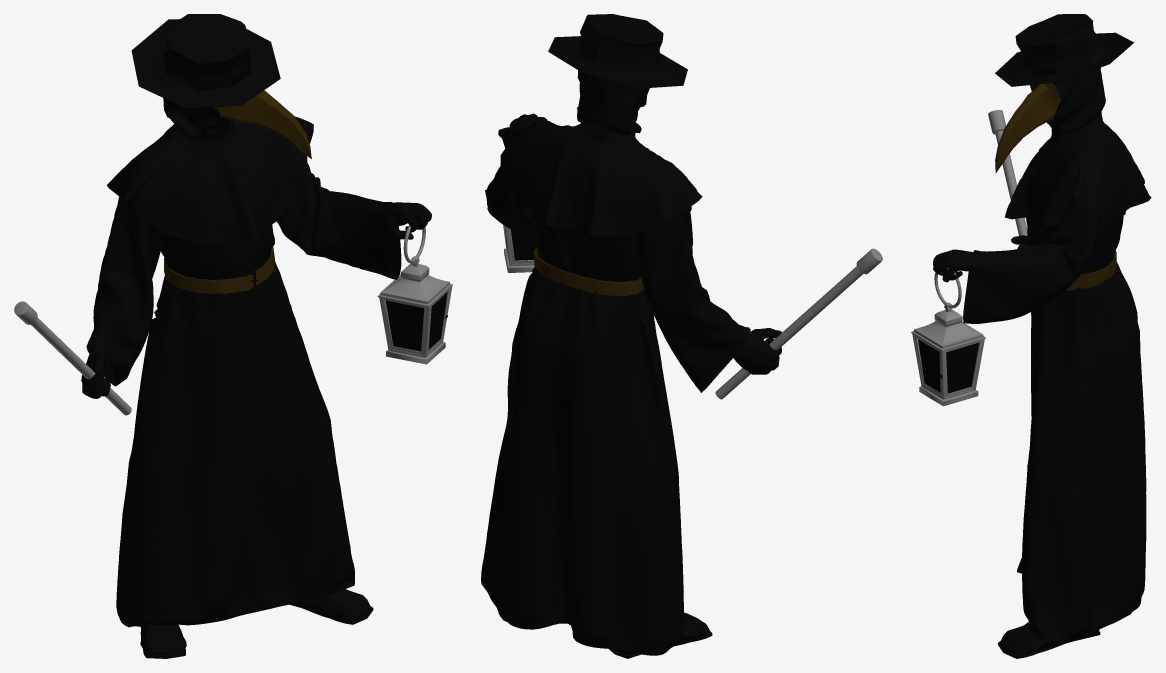
The model's file is ЧумнойДоктор2.fbx.
3 renders of one model, left to right at view 1: azimuth 30°, elevation 25°; view 2: azimuth 150°, elevation 25°; view 3: azimuth 270°, elevation 25°, orthographic. The views are drawn at different scales.
Parts seen in each view (by area): view 1: default001e, Group001, hat, Line010, Line001, Plane009, Plane008, Plane014, Plane007, Cylinder001; view 2: default001e, Group001, hat, Cylinder001, Plane009, Plane007, Plane012; view 3: default001e, Group001, hat, Line010, Line001, Plane008, Plane013, Plane011, Plane009, Cylinder001, Line002.
Part boxes in pixels (x1,y1,x2,y2): default001e: (86,120,401,627); Group001: (81,98,431,398); hat: (131,14,280,108); Line010: (214,90,311,158); Line001: (380,256,449,304); Plane009: (164,246,275,293); Plane008: (290,589,373,624); Plane014: (386,300,424,351); Plane007: (140,624,186,658); Cylinder001: (31,318,131,415); default001e: (481,128,750,655); Group001: (498,70,781,374); hat: (548,14,687,88); Cylinder001: (715,266,863,399); Plane009: (533,247,643,295); Plane007: (609,612,712,658); Plane012: (510,229,536,260); default001e: (963,112,1146,642); Group001: (933,67,1151,282); hat: (995,14,1133,86); Line010: (995,83,1071,172); Line001: (914,302,983,348); Plane008: (998,586,1100,658); Plane013: (946,343,978,393); Plane011: (918,339,940,392); Plane009: (1065,250,1116,290); Cylinder001: (995,130,1027,244); Line002: (919,386,978,406).
Bounding box in the file's own units: 1289 × 1814 × 692.
